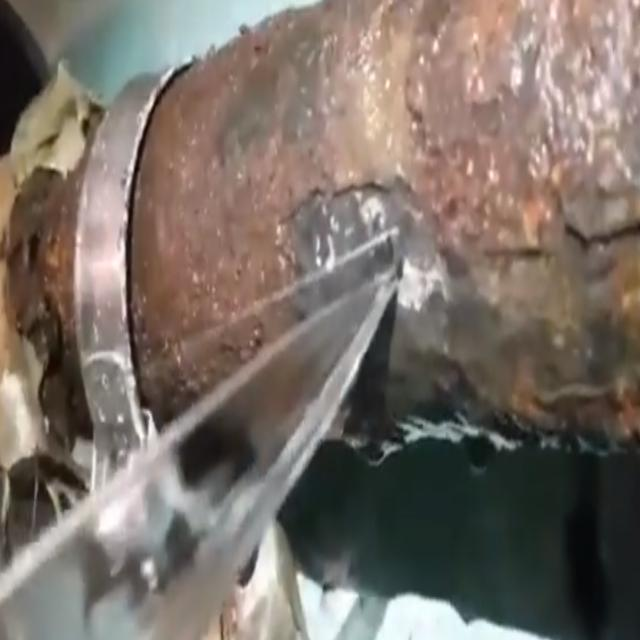leak: (0, 226, 399, 636)
